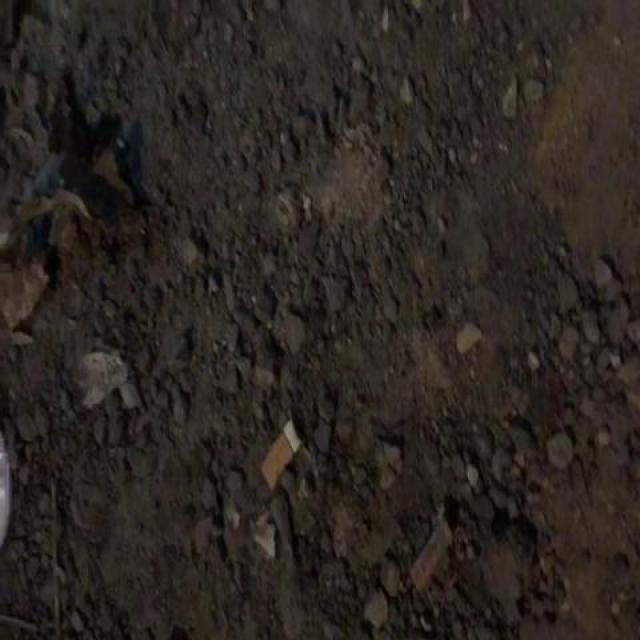non-organic waste: (256, 416, 304, 496)
